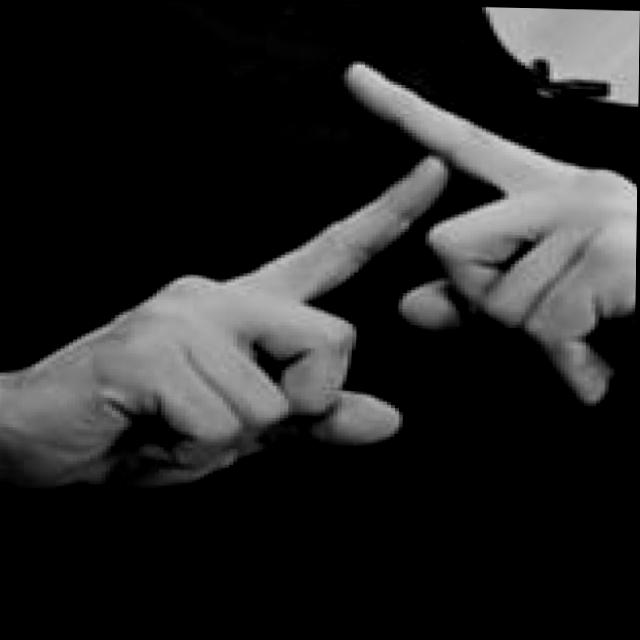T: (0, 45, 639, 500)
